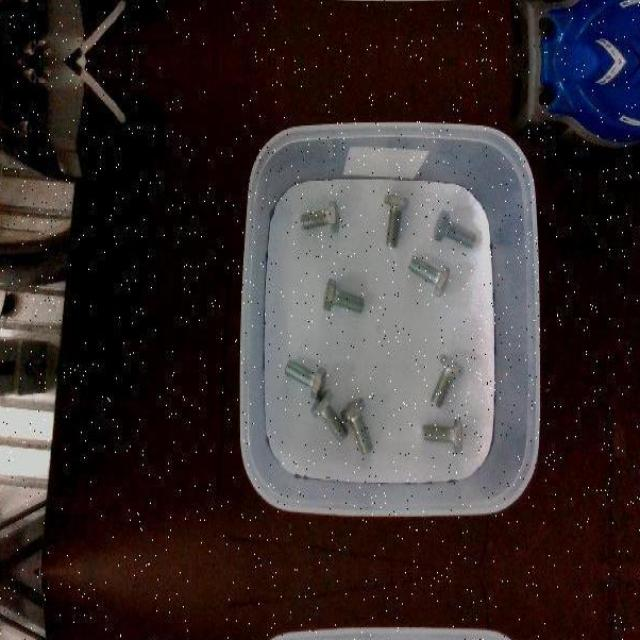screw: (310, 389, 349, 443), (430, 352, 466, 409), (339, 396, 373, 454), (408, 255, 450, 298), (433, 210, 476, 250), (284, 357, 324, 398), (323, 278, 365, 313), (422, 418, 464, 453), (384, 191, 409, 247), (300, 200, 340, 234)
